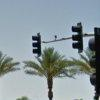Traffic light: (22, 29, 89, 63)
